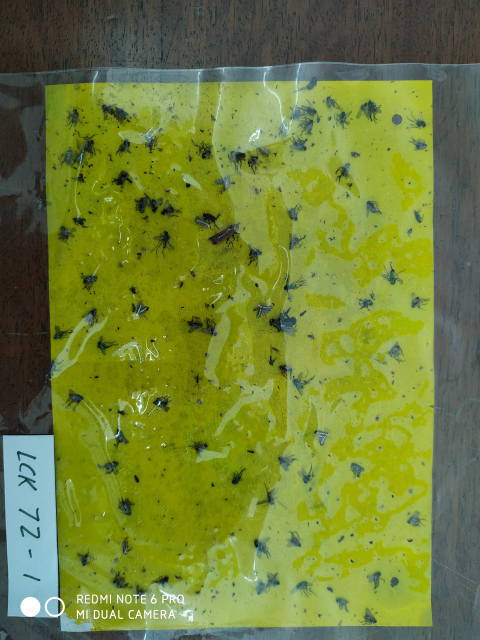DBM: (213, 170, 237, 193), (250, 301, 275, 321), (313, 427, 331, 448), (132, 300, 151, 319), (255, 144, 273, 161), (192, 215, 211, 231)
